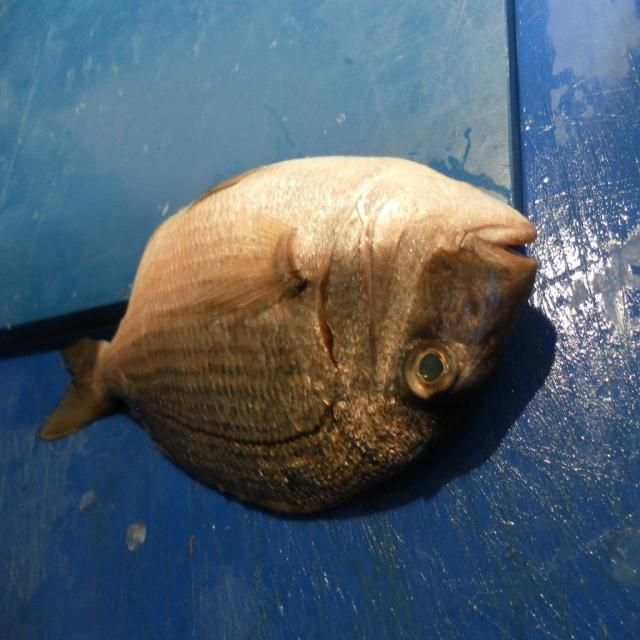Red-Sea-Bream-mercan-: (39, 156, 540, 521)
